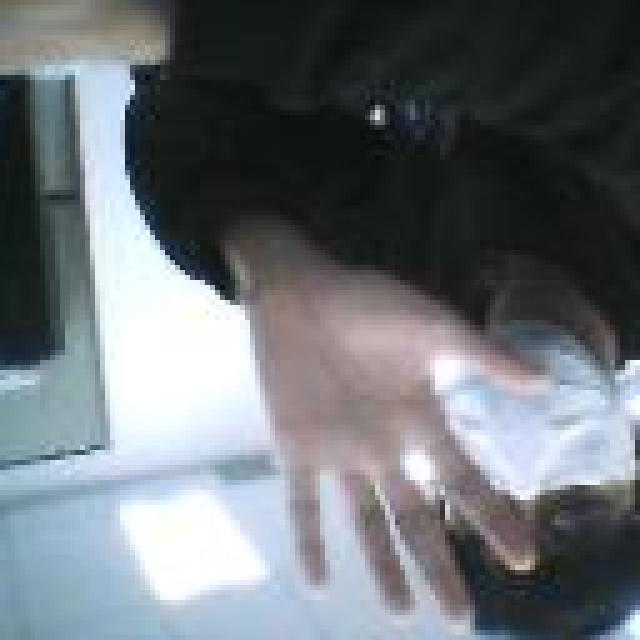hand: (240, 265, 555, 640)
